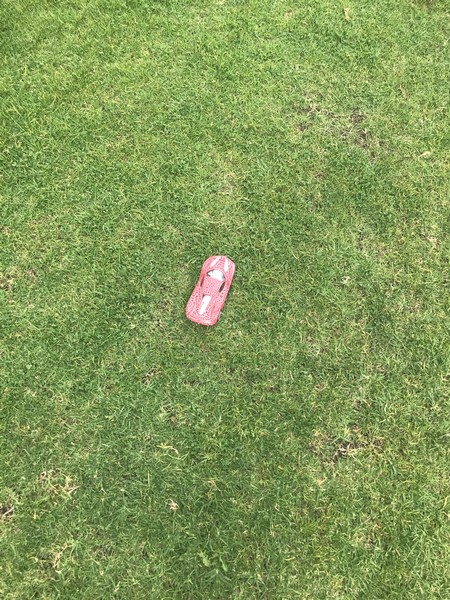RC: (183, 254, 240, 328)
